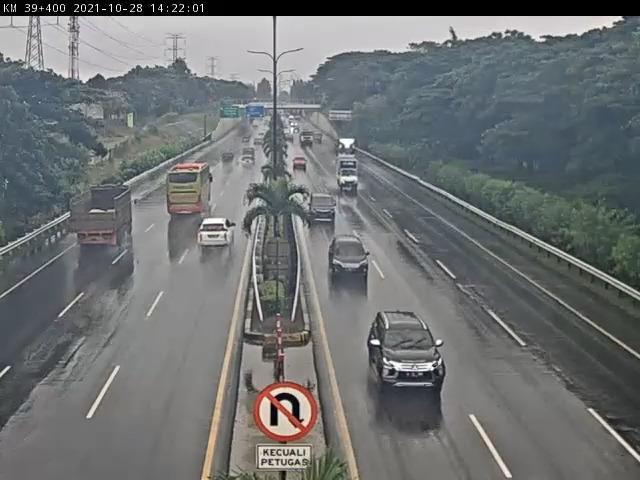bus: (167, 162, 215, 217)
car: (365, 310, 449, 392), (330, 237, 373, 278), (197, 218, 238, 249), (305, 191, 339, 223), (239, 154, 257, 172), (293, 155, 309, 172), (221, 151, 237, 164)
truck: (68, 184, 135, 251), (338, 158, 361, 193)
